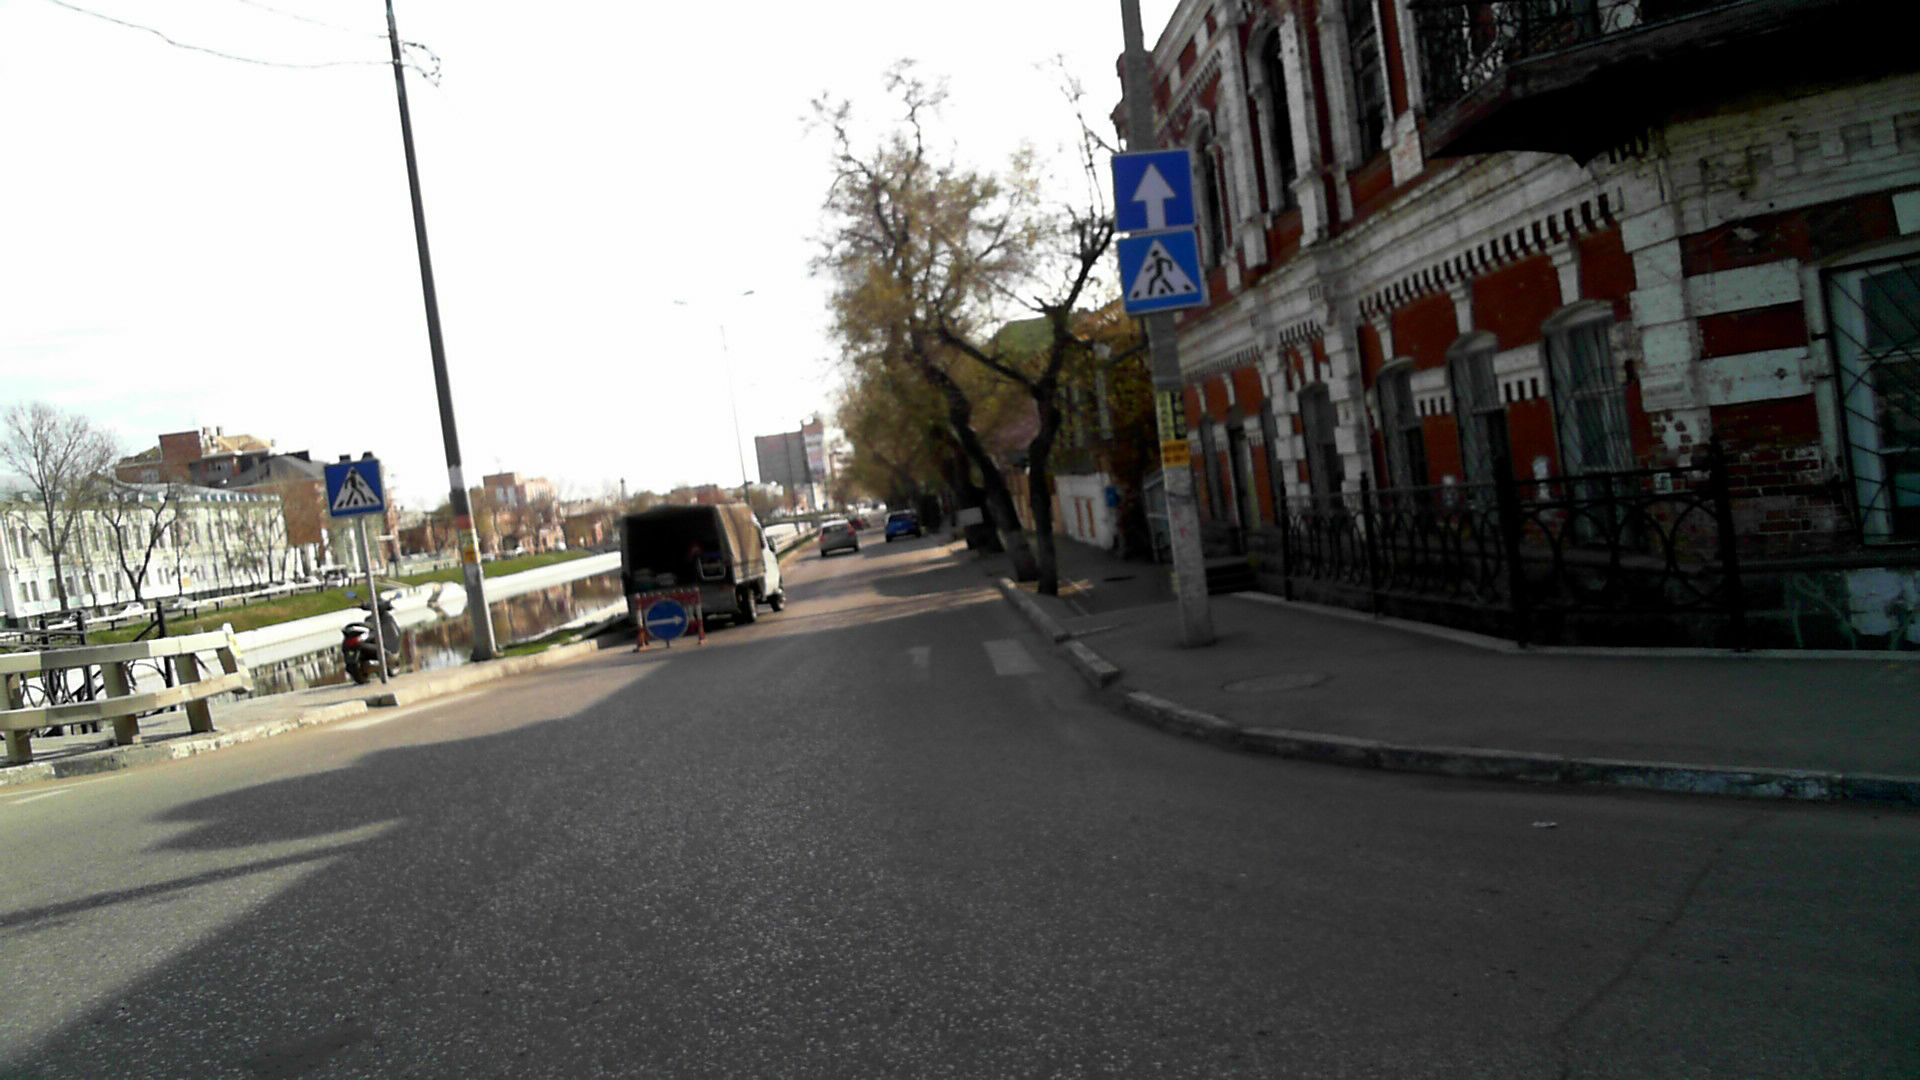Turn Right: (646, 599, 688, 640)
